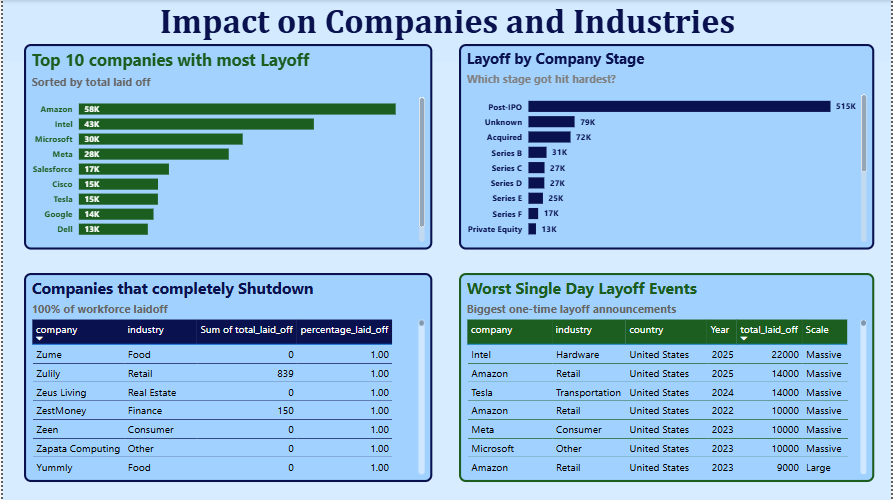

Layout of this report page (visuals, bound fields, positions):
{"tool":"powerbi","page":{"name":"Impact on Companies & Industries","canvas":[1280,720],"ordinal":1},"visuals":[{"type":"textbox","title":"Impact on Companies and Industries","box":[0,0,1280,89],"z":0},{"type":"clusteredBarChart","title":"Top 10 companies with most Layoff","fields":{"Category":["public layoffs.company"],"Y":["Sum(public layoffs.total_laid_off)"]},"box":[30.2,63.8,587.9,295.6],"z":1000},{"type":"clusteredBarChart","title":"Layoff by Company Stage","fields":{"Y":["Sum(public layoffs.total_laid_off)"],"Category":["public layoffs.stage"]},"box":[656.8,63.8,598,295.6],"z":2000},{"type":"tableEx","title":"Companies that completely Shutdown","fields":{"Values":["public layoffs.company","public layoffs.industry","Sum(public layoffs.total_laid_off)","public layoffs.percentage_laid_off"]},"box":[30.2,393.1,587.9,300.7],"z":3000},{"type":"tableEx","title":"Worst Single Day Layoff Events","fields":{"Values":["public layoffs.company","public layoffs.industry","public layoffs.country","public layoffs.date.Variation.Date Hierarchy.Year","public layoffs.total_laid_off","public layoffs.Scale"]},"box":[656.8,393.1,598,300.7],"z":4000}]}

Visuals, with their boxes in screenshot pixels (x1, y1, x2, y2), scaled from the page's 1280x720 canvas onto the 893x500 screenshot:
"Impact on Companies and Industries" textbox: 0,0,892,62
"Top 10 companies with most Layoff" clusteredBarChart: 21,44,431,250
"Layoff by Company Stage" clusteredBarChart: 458,44,875,250
"Companies that completely Shutdown" tableEx: 21,273,431,482
"Worst Single Day Layoff Events" tableEx: 458,273,875,482
